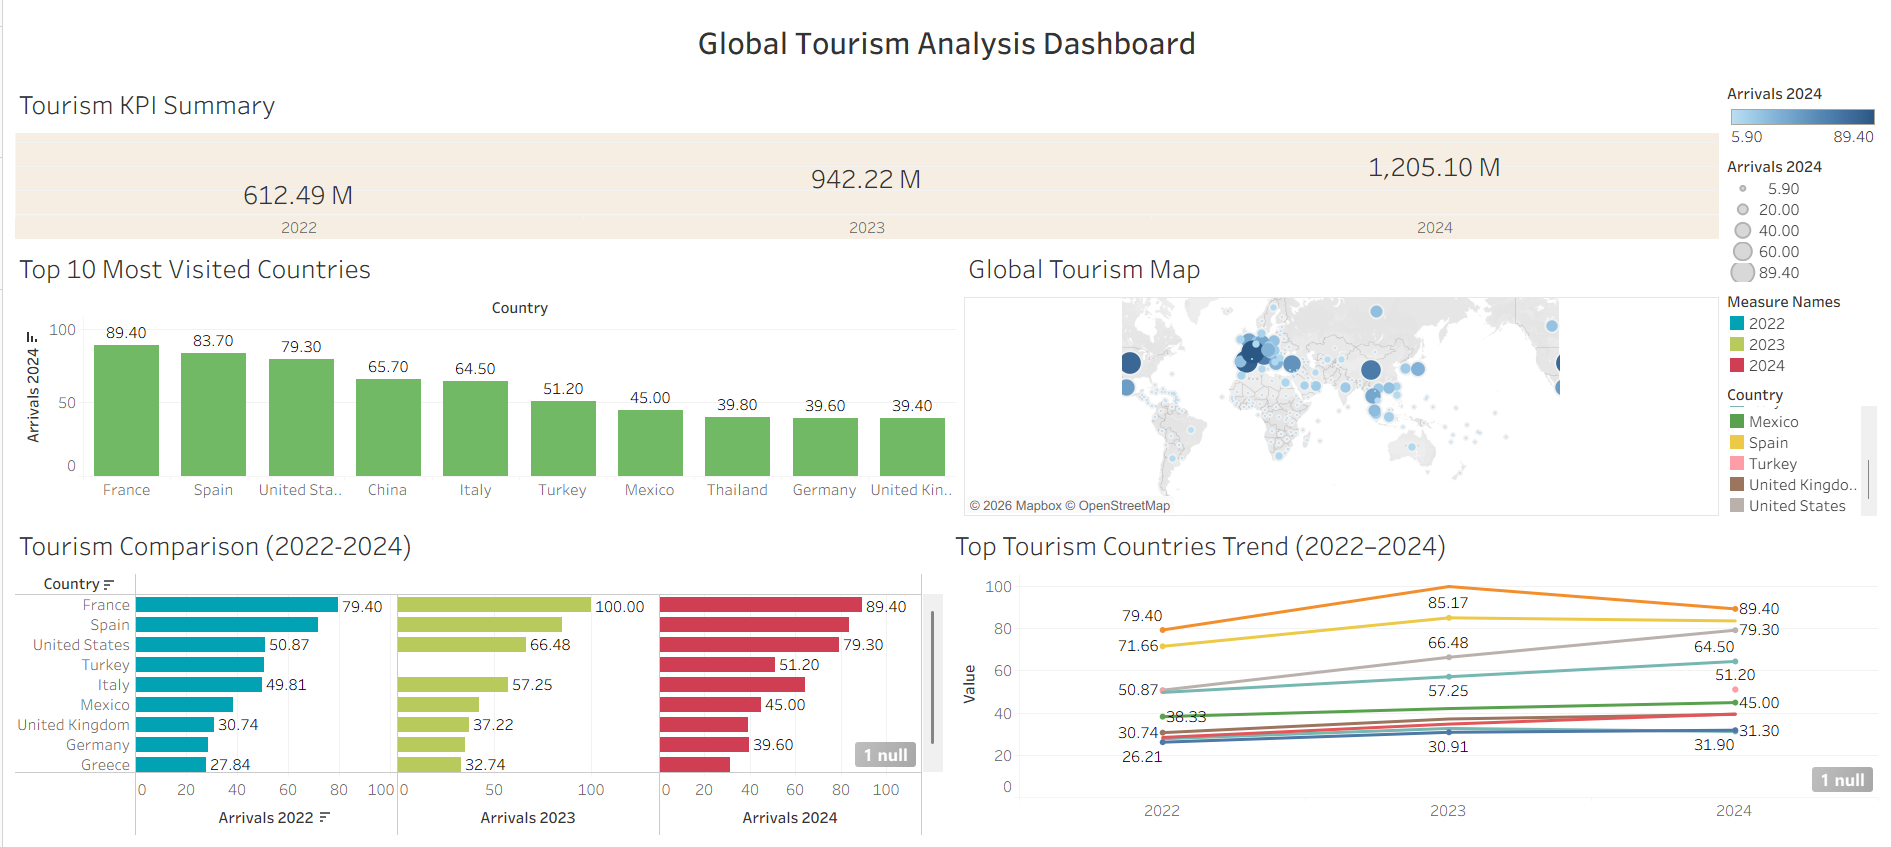

What the dashboard file says about the page in this screenshot:
{"tool":"tableau","page":{"name":"Global Tourism Analysis Dashboard","canvas":[1000,1000],"units":"permille","ordinal":0},"visuals":[{"type":"title","box":[4.2,9.4,991.5,87]},{"type":"worksheet","title":"Tourism KPI Summary","mark":"Text","box":[4.2,96.4,906.8,192.7]},{"type":"legend","title":"Global Tourism Map","param":"[federated.04ym1711umqwv311bciuc1bqlbsj].[sum:Arrivals 2024:qk]","box":[911,96.4,84.8,85.8]},{"type":"legend","title":"Global Tourism Map","param":"[federated.04ym1711umqwv311bciuc1bqlbsj].[sum:Arrivals 2024:qk]","box":[911,182.1,84.8,158.6]},{"type":"worksheet","title":"Top 10 Most Visited Countries","mark":"Automatic","rows":["Arrivals 2024"],"cols":["country"],"box":[4.2,289.1,502.7,325.5]},{"type":"worksheet","title":"Global Tourism Map","mark":"Circle","box":[506.9,289.1,404.1,325.5]},{"type":"legend","title":"Tourism Comparison (2022-2024)","param":"[federated.04ym1711umqwv311bciuc1bqlbsj].[:Measure Names]","box":[911,340.8,84.8,109.3]},{"type":"legend","title":"Top Tourism Countries Trend (2022–2024)","param":"[federated.04ym1711umqwv311bciuc1bqlbsj].[none:country:nk]","box":[911,450.1,84.8,164.5]},{"type":"worksheet","title":"Tourism Comparison (2022-2024)","mark":"Automatic","rows":["country"],"cols":["Arrivals 2022","Arrivals 2023","Arrivals 2024"],"box":[4.2,614.6,495.8,376]},{"type":"worksheet","title":"Top Tourism Countries Trend (2022–2024)","mark":"Line","box":[500,614.6,495.8,376]}]}

Visuals, with their boxes on the dashboard's canvas, which has no fixed pixel size, in thousandths of its width and height (x1, y1, x2, y2). These are canvas units, not pixel positions in the 1891x847 screenshot, which may show the page scaled, cropped or inside an application window:
title: region(4, 9, 996, 96)
"Tourism KPI Summary" worksheet (Text marks): region(4, 96, 911, 289)
"Global Tourism Map" legend: region(911, 96, 996, 182)
"Global Tourism Map" legend: region(911, 182, 996, 341)
"Top 10 Most Visited Countries" worksheet: region(4, 289, 507, 615)
"Global Tourism Map" worksheet (Circle marks): region(507, 289, 911, 615)
"Tourism Comparison (2022-2024)" legend: region(911, 341, 996, 450)
"Top Tourism Countries Trend (2022–2024)" legend: region(911, 450, 996, 615)
"Tourism Comparison (2022-2024)" worksheet: region(4, 615, 500, 991)
"Top Tourism Countries Trend (2022–2024)" worksheet (Line marks): region(500, 615, 996, 991)
